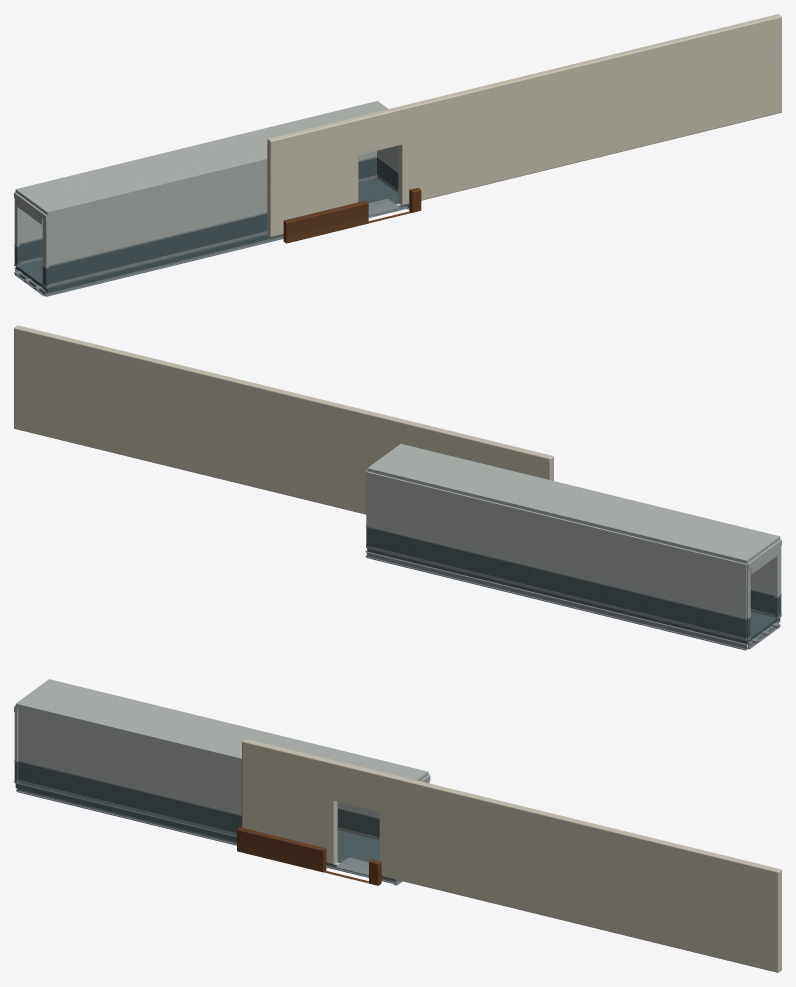
File: FRESH_REEXPORT.glb
3 renders of one model, top to bottom at view 1: azimuth 30°, elevation 25°; view 2: azimuth 150°, elevation 25°; view 3: azimuth 330°, elevation 25°, orthographic. The views are drawn at different scales.
Visible parts, largest first — view 1: RNS_SUCCESSOR_D12_directory_08__enclosure_1, RNS_BATCH_001, RNS_BATCH_000, RNS_BATCH_002, RNS_SUCCESSOR_D12_directory_08__dado-1_0; view 2: RNS_SUCCESSOR_D12_directory_08__enclosure_1, RNS_BATCH_001, RNS_BATCH_000, RNS_BATCH_002; view 3: RNS_SUCCESSOR_D12_directory_08__enclosure_1, RNS_BATCH_001, RNS_BATCH_000, RNS_BATCH_002, RNS_SUCCESSOR_D12_directory_08__dado-1_0.
Boxes of the visible parts, x1,y1,x2,y2 form: RNS_SUCCESSOR_D12_directory_08__enclosure_1: (267,14,781,237); RNS_BATCH_001: (14,101,398,267); RNS_BATCH_000: (14,158,408,292); RNS_BATCH_002: (14,156,409,296); RNS_SUCCESSOR_D12_directory_08__dado-1_0: (283,188,421,243); RNS_SUCCESSOR_D12_directory_08__enclosure_1: (14,325,553,514); RNS_BATCH_001: (365,444,781,618); RNS_BATCH_000: (366,527,781,644); RNS_BATCH_002: (365,525,781,650); RNS_SUCCESSOR_D12_directory_08__enclosure_1: (242,739,781,972); RNS_BATCH_001: (14,679,430,817); RNS_BATCH_000: (14,762,395,880); RNS_BATCH_002: (14,760,402,885); RNS_SUCCESSOR_D12_directory_08__dado-1_0: (237,827,381,885).
Size of the model in its own units: 40.3 by 5.51 by 4.44.
6 materials, 5 textured.
